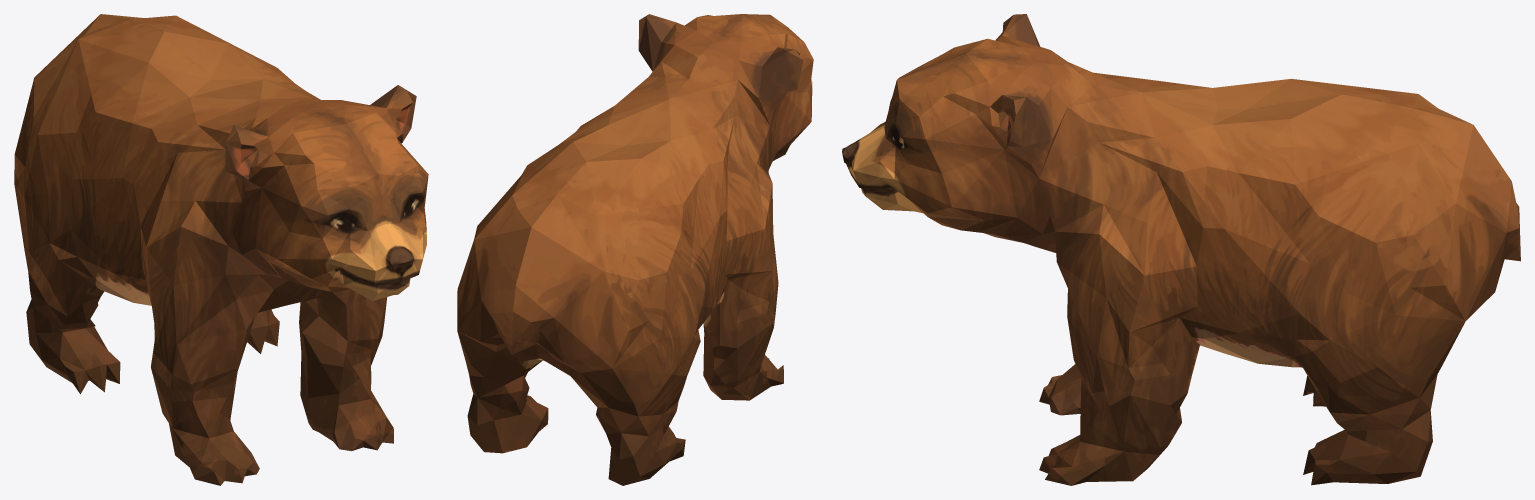
The model's file is BabyBear.FBX.
The picture shows the model from 3 angles, left to right: view 1: azimuth 30°, elevation 25°; view 2: azimuth 150°, elevation 25°; view 3: azimuth 270°, elevation 25°; orthographic projection. The views are drawn at different scales.
Parts seen in each view (by area): view 1: BabyBear; view 2: BabyBear; view 3: BabyBear.
Part boxes in pixels (left/top/right/bottom): BabyBear: left=14, top=14, right=428, bottom=485; BabyBear: left=457, top=14, right=813, bottom=485; BabyBear: left=842, top=14, right=1520, bottom=485.
Bounding box in the file's own units: 58.66 × 86.01 × 138.
